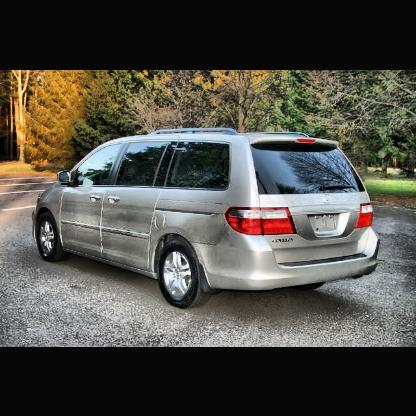Honda Odyssey Minivan 2007: (32, 126, 383, 313)
